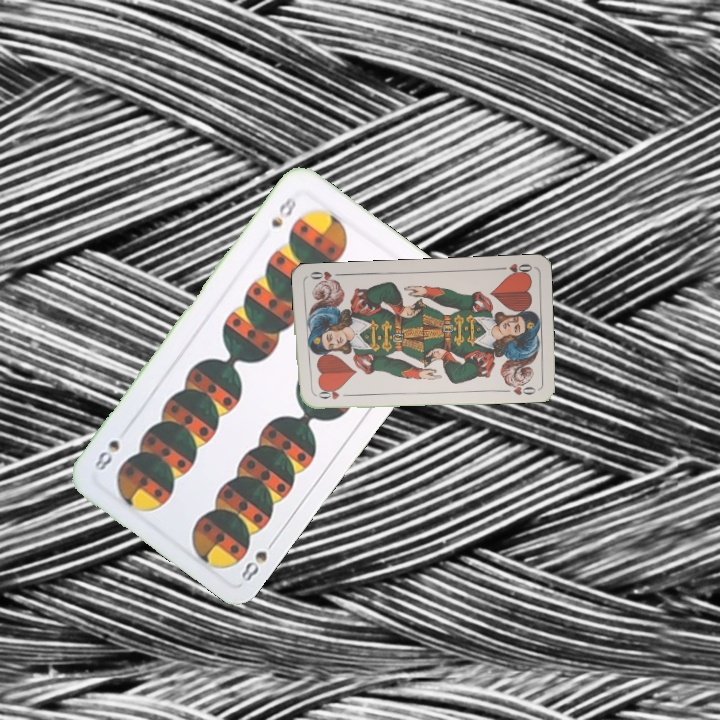HO: (494, 259, 534, 278), (311, 386, 351, 402)
S8: (237, 533, 280, 584), (267, 192, 299, 230)
